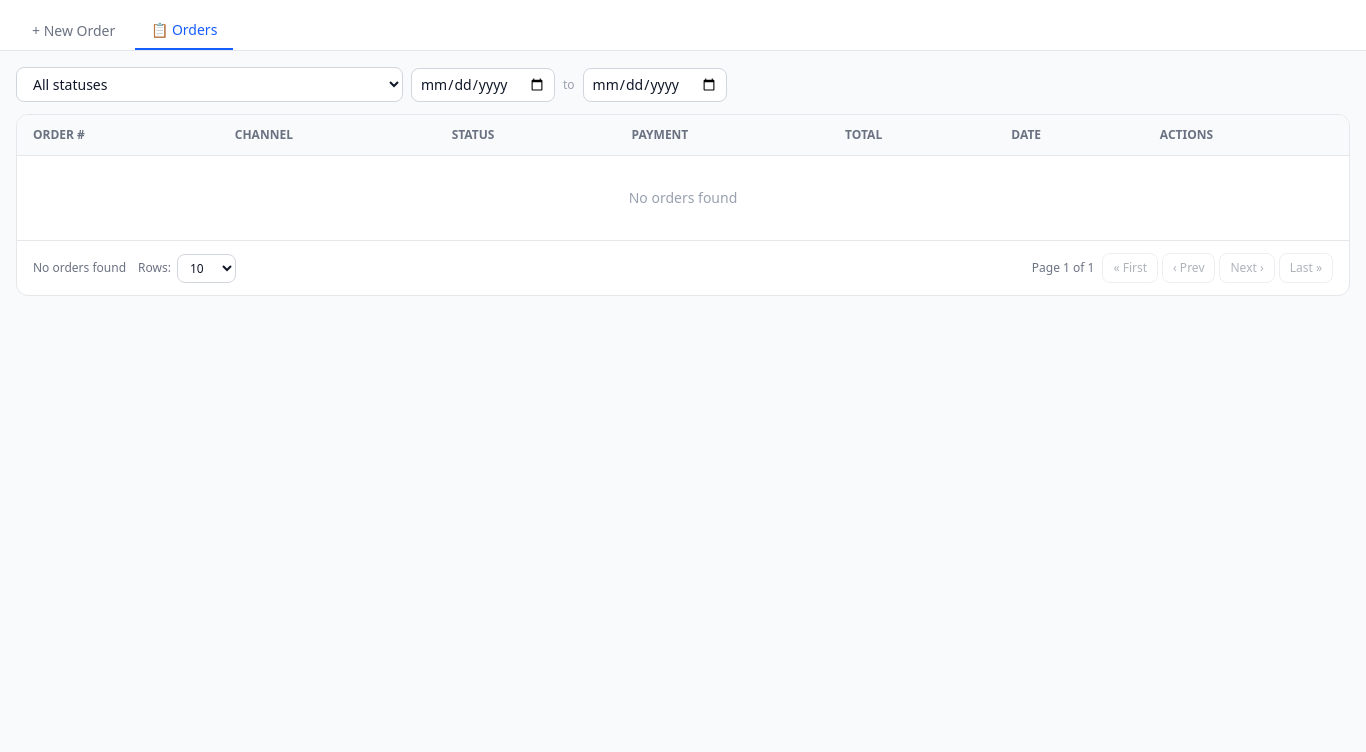
Test: stock › takes an out-of-stock book only as a special order, a credit sale (#174; was: refused)
The width and height of the screenshot is (1366, 752).
Click the button "+ New Order": click(74, 31) [16, 12, 131, 50]
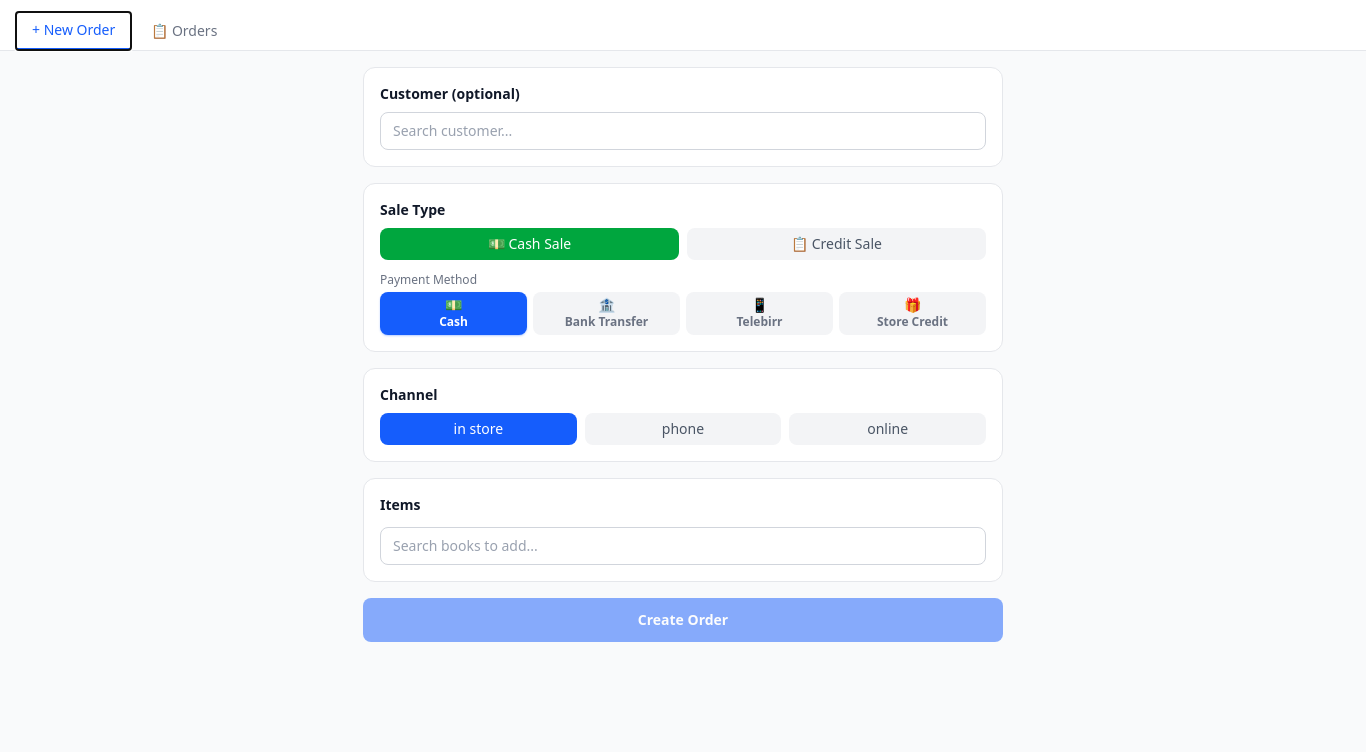
In the field with placeholder "Search books to add...": (683, 546) [380, 527, 986, 565], type "Fikir"
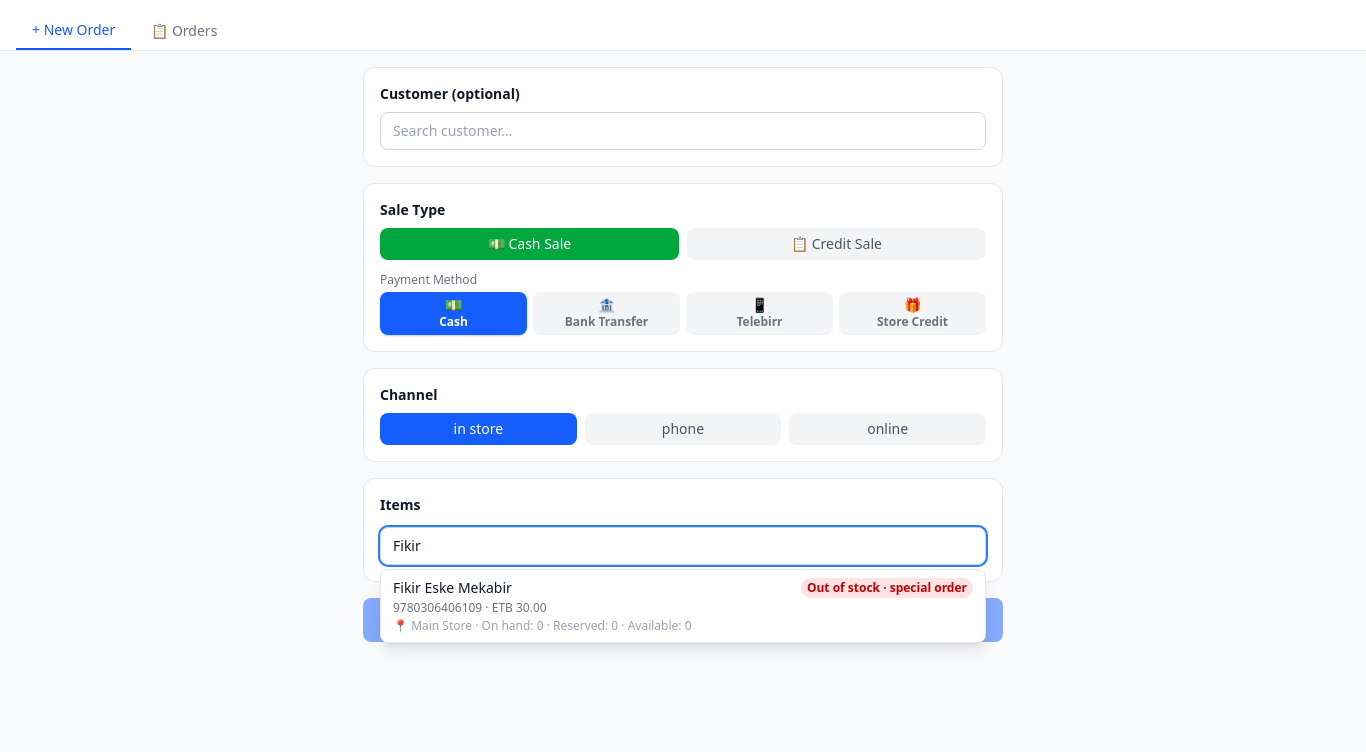
Click the button that starts with "Fikir Eske Mekabir": click(452, 588) [381, 570, 985, 642]
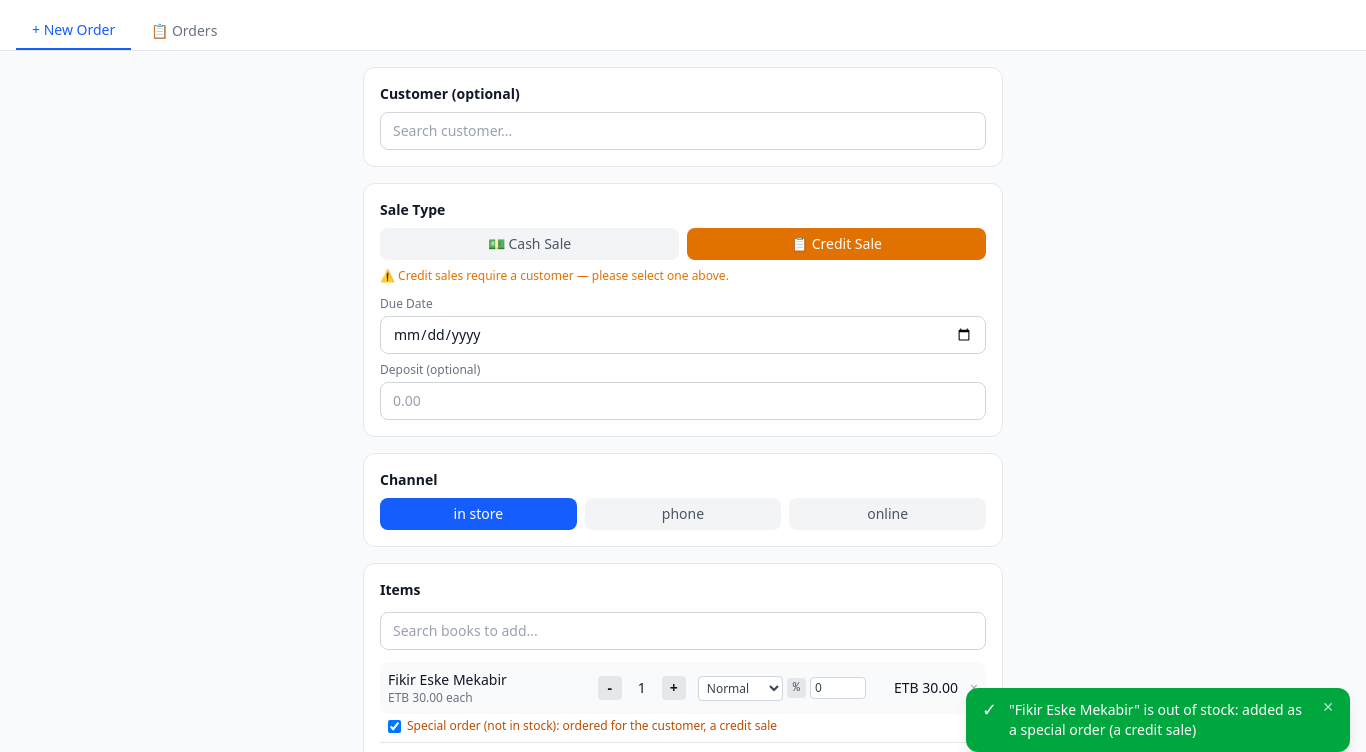
Expected: the checkbox named "Special order: Fikir Eske Mekabir" is checked, [388, 720, 401, 732]
